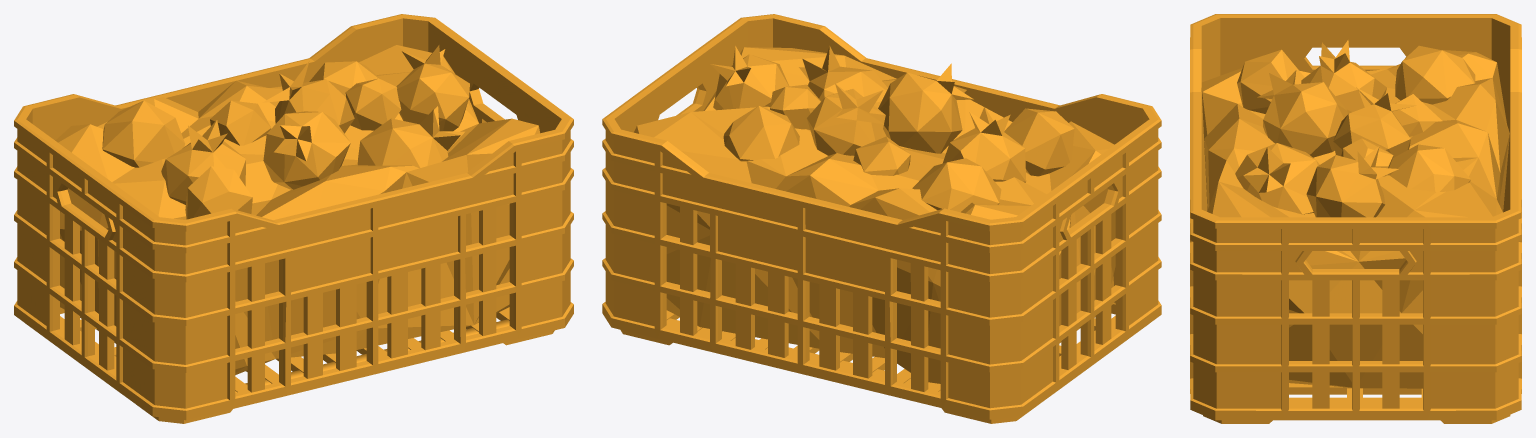
Rendered from SM_Crate_Plastic_Medium_Tomatoes.fbx.
3 renders of one model, left to right at view 1: azimuth 30°, elevation 25°; view 2: azimuth 150°, elevation 25°; view 3: azimuth 270°, elevation 25°, orthographic.
Parts seen in each view (by area): view 1: crate-plastic-medium-tomatoes; view 2: crate-plastic-medium-tomatoes; view 3: crate-plastic-medium-tomatoes.
Boxes of the visible parts, x1,y1,x2,y2 form: crate-plastic-medium-tomatoes: [14, 14, 573, 423]; crate-plastic-medium-tomatoes: [602, 14, 1161, 423]; crate-plastic-medium-tomatoes: [1190, 14, 1521, 423].
Size of the model in its own units: 0.6083 by 0.3364 by 0.4083.
